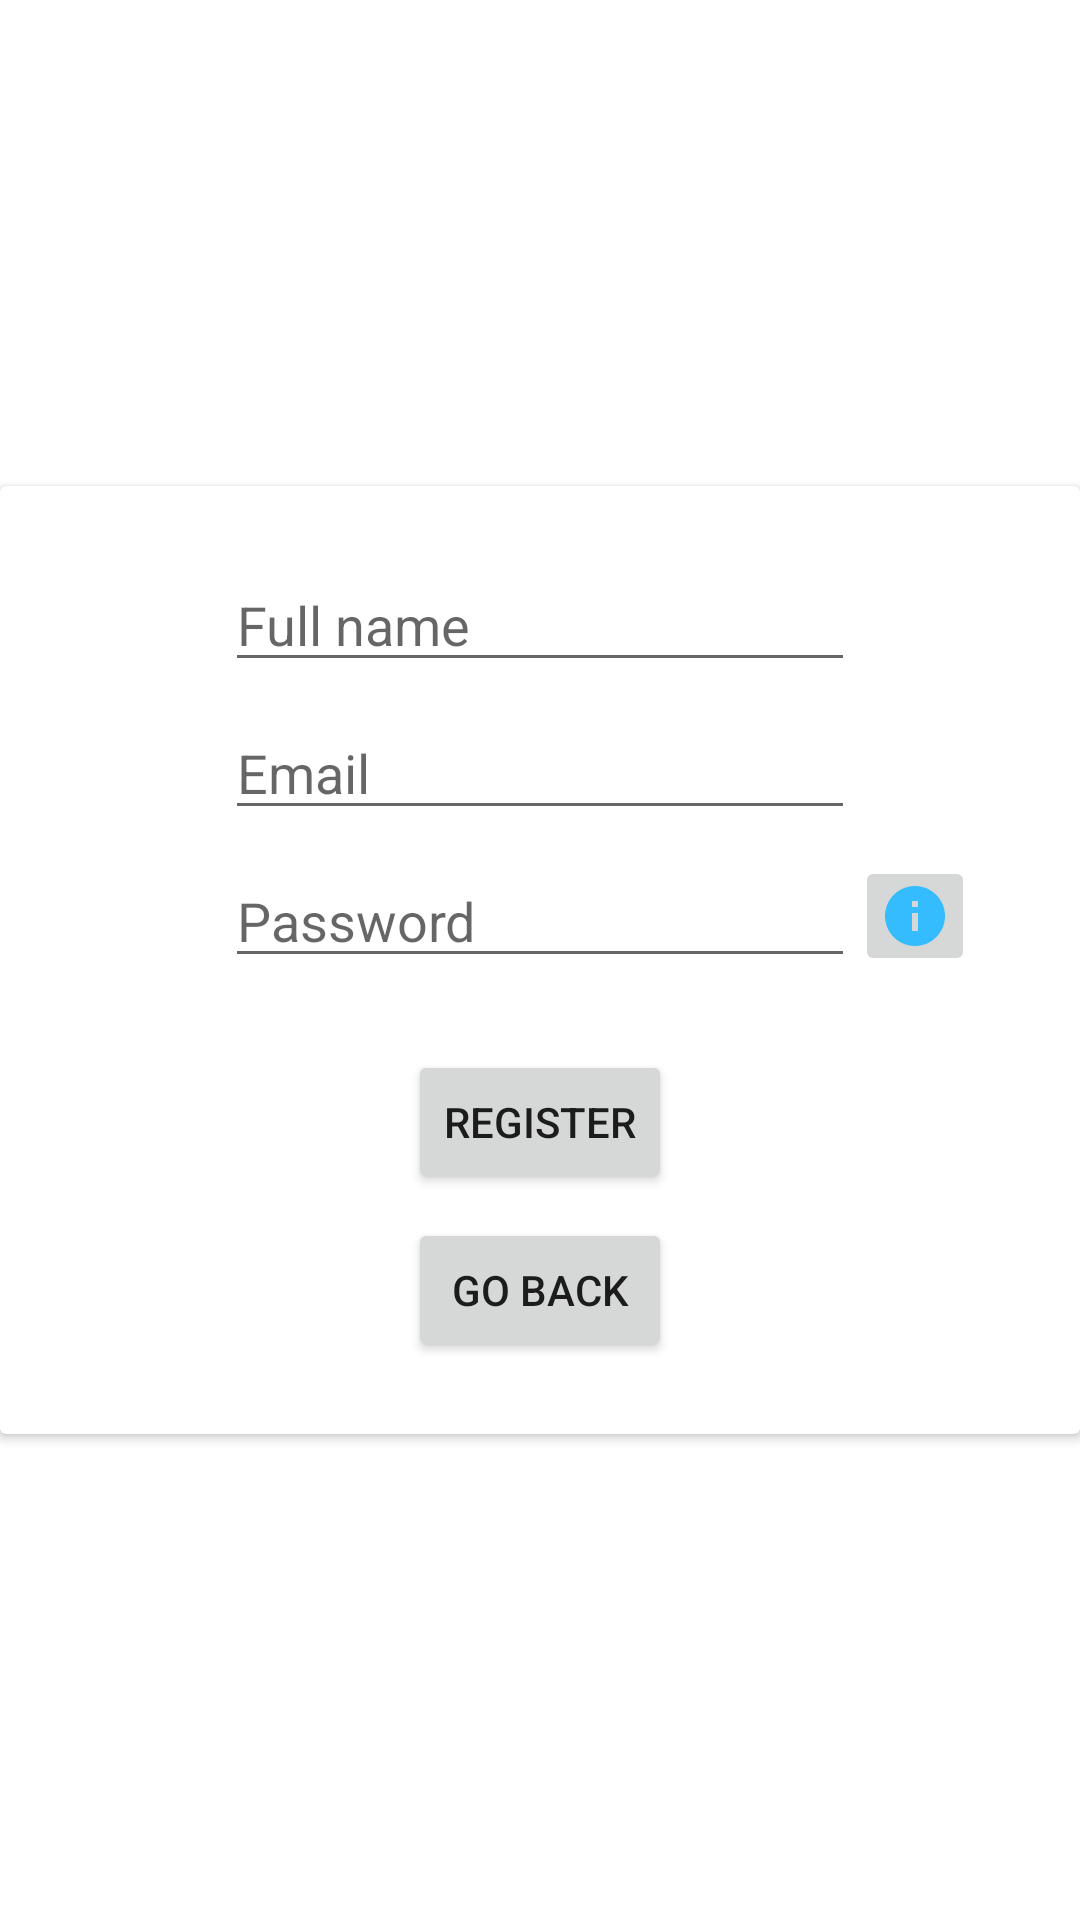

Icon bounding boxes for this 1080px x 1920px phone screenshot, format (x1, y1, x2, y2):
info: (867, 874, 963, 958)
